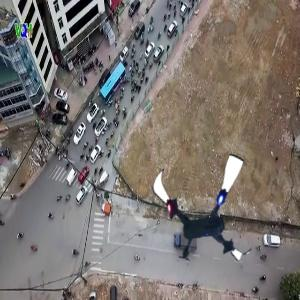drone: (141, 147, 266, 272)
